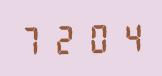four: (111, 18, 141, 53)
seven: (18, 22, 48, 57)
two: (49, 21, 79, 56)
zero: (80, 20, 110, 54)
